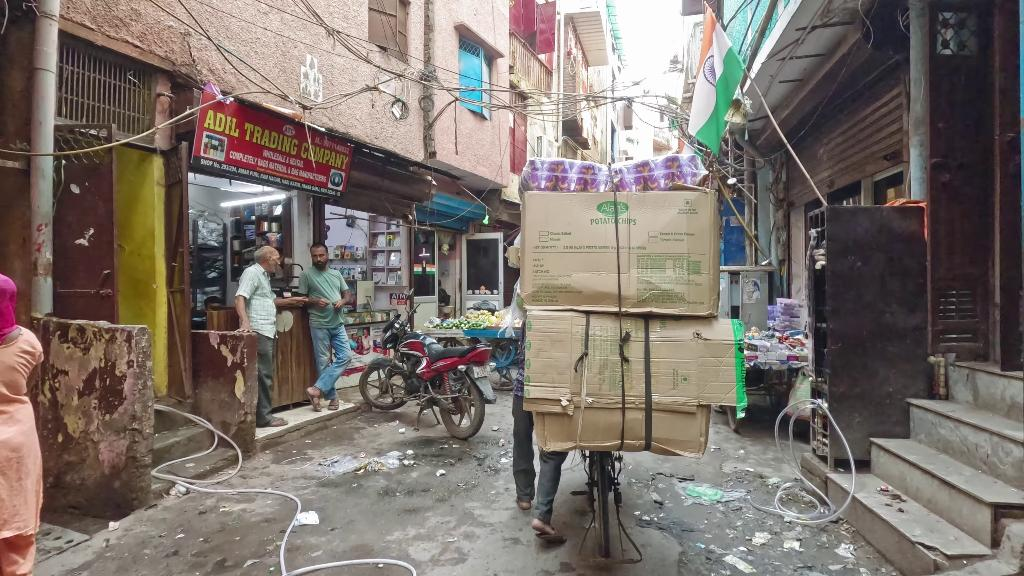garbage: (317, 454, 365, 479), (684, 479, 723, 503), (289, 509, 324, 530), (379, 448, 405, 470), (833, 542, 857, 563), (751, 530, 772, 545), (364, 457, 379, 473), (434, 469, 447, 478)
